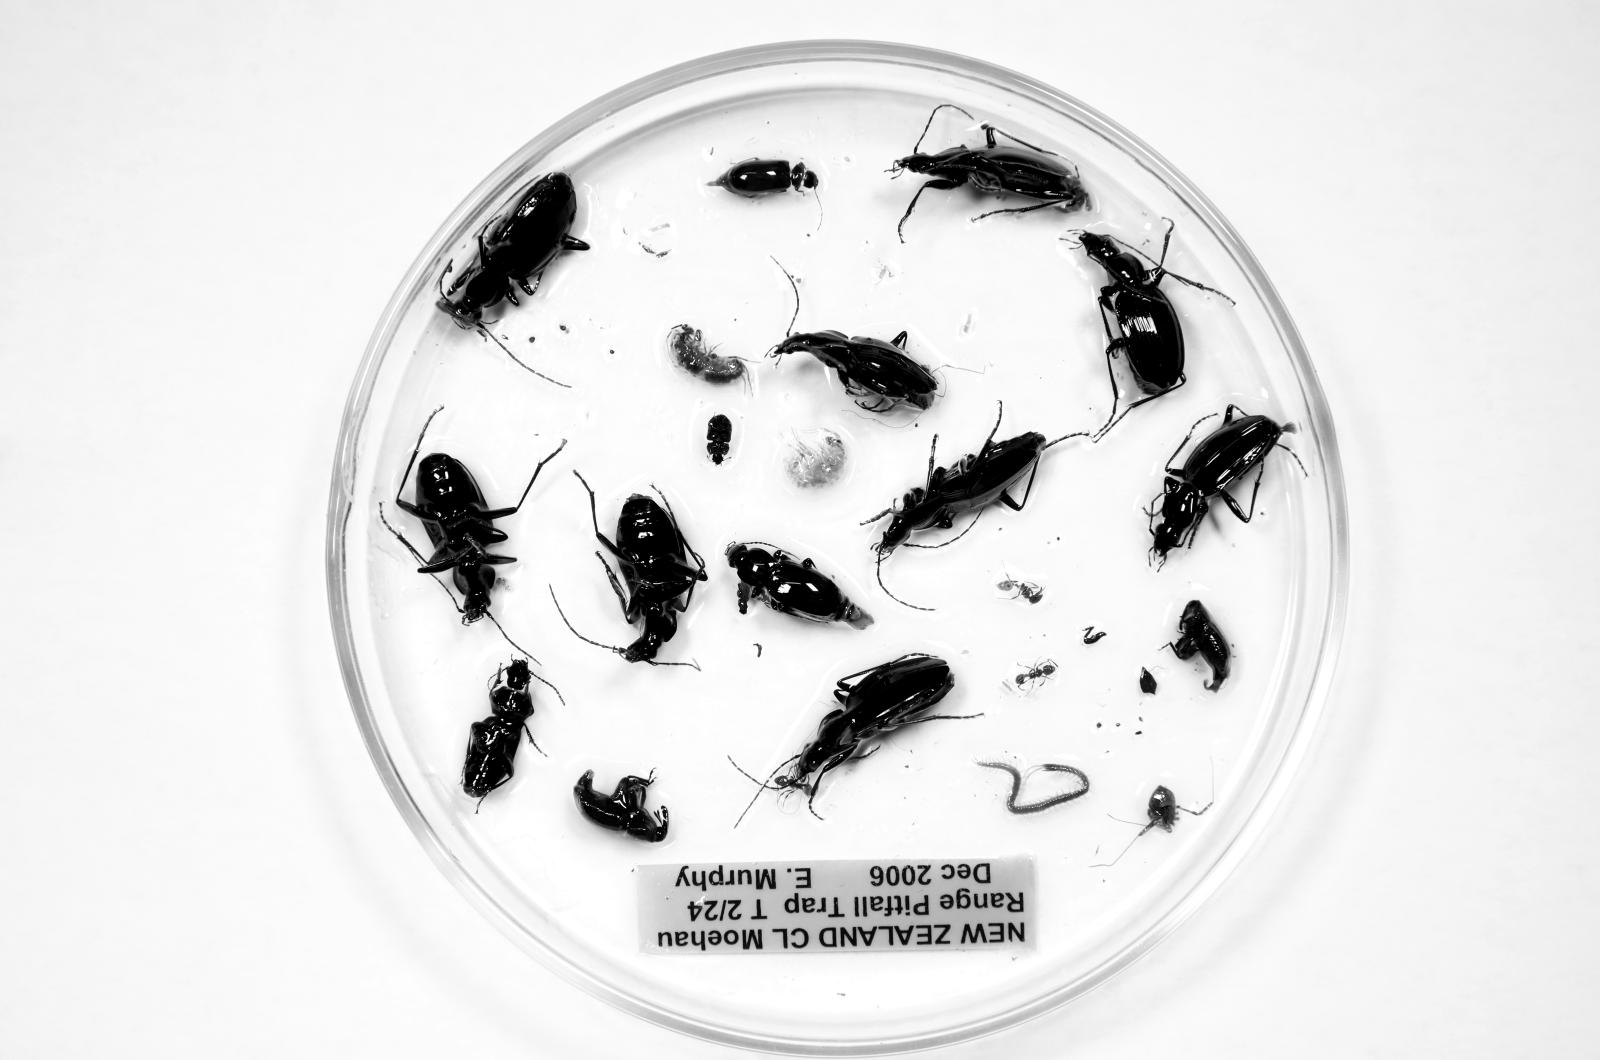amphipoda: (668, 324, 746, 383), (782, 428, 848, 491)
carabidae: (438, 172, 590, 328), (396, 446, 524, 625), (790, 654, 953, 782), (876, 432, 1047, 554), (1152, 406, 1283, 557), (592, 495, 707, 665), (1078, 232, 1185, 394), (894, 124, 1087, 209), (766, 330, 939, 409), (725, 542, 873, 629), (462, 659, 533, 800)
chilopoda: (976, 760, 1090, 814)
coleoptera: (574, 770, 668, 842), (707, 159, 818, 198), (706, 414, 732, 465)
formicidae: (1003, 658, 1057, 693), (776, 776, 817, 806), (997, 579, 1043, 605)
opiliones: (1147, 786, 1178, 832)
